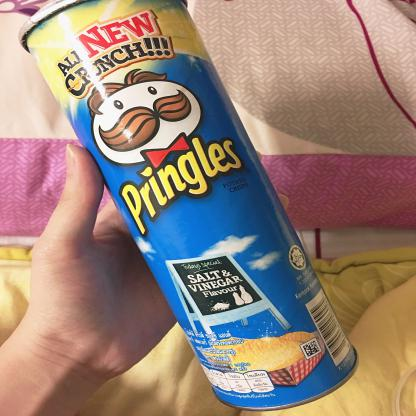potatochip: (14, 0, 365, 409)
